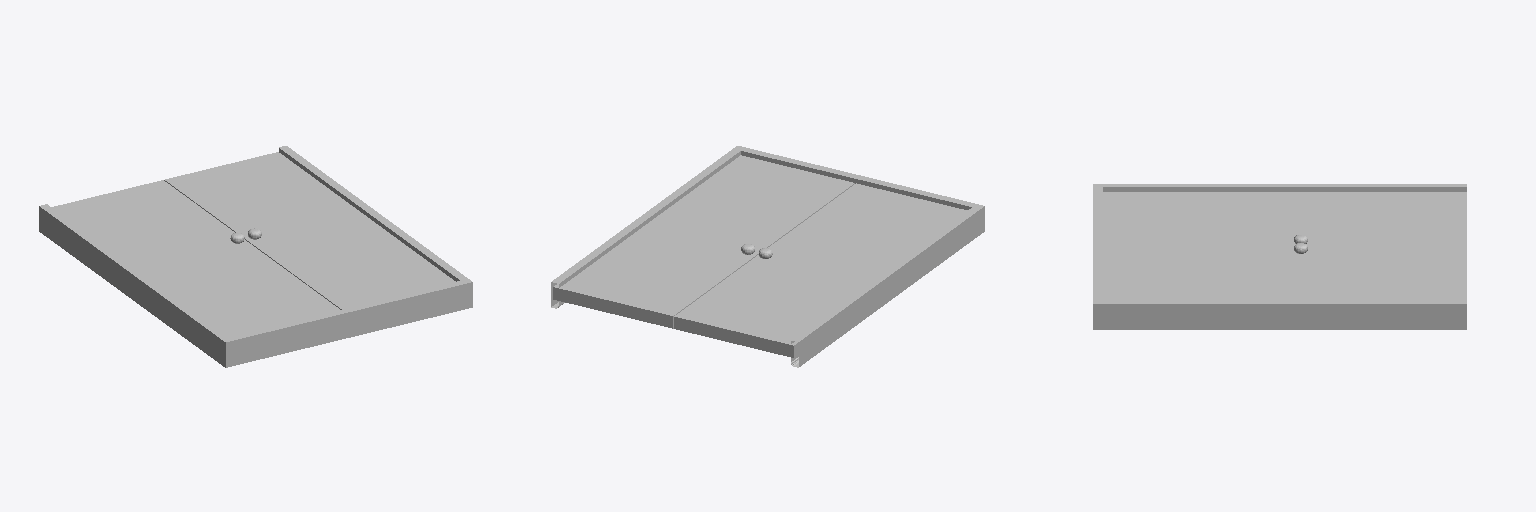
Rendered from 60x80 Double_French_Door_Honey_v1.obj.
3 renders of one model, left to right at view 1: azimuth 30°, elevation 25°; view 2: azimuth 150°, elevation 25°; view 3: azimuth 270°, elevation 25°, orthographic.
Parts seen in each view (by area): view 1: DoubleFrenchDoor60x106; view 2: DoubleFrenchDoor60x106; view 3: DoubleFrenchDoor60x106.
Boxes of the visible parts, box(x1,y1,x2,y2) form: DoubleFrenchDoor60x106: box(39, 146, 472, 367); DoubleFrenchDoor60x106: box(551, 146, 984, 367); DoubleFrenchDoor60x106: box(1093, 184, 1466, 329).
Size of the model in its own units: 154 by 19.05 by 201.